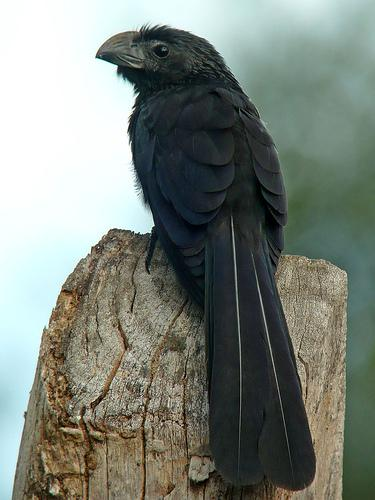004.Groove_billed_Ani: (96, 24, 319, 489)
